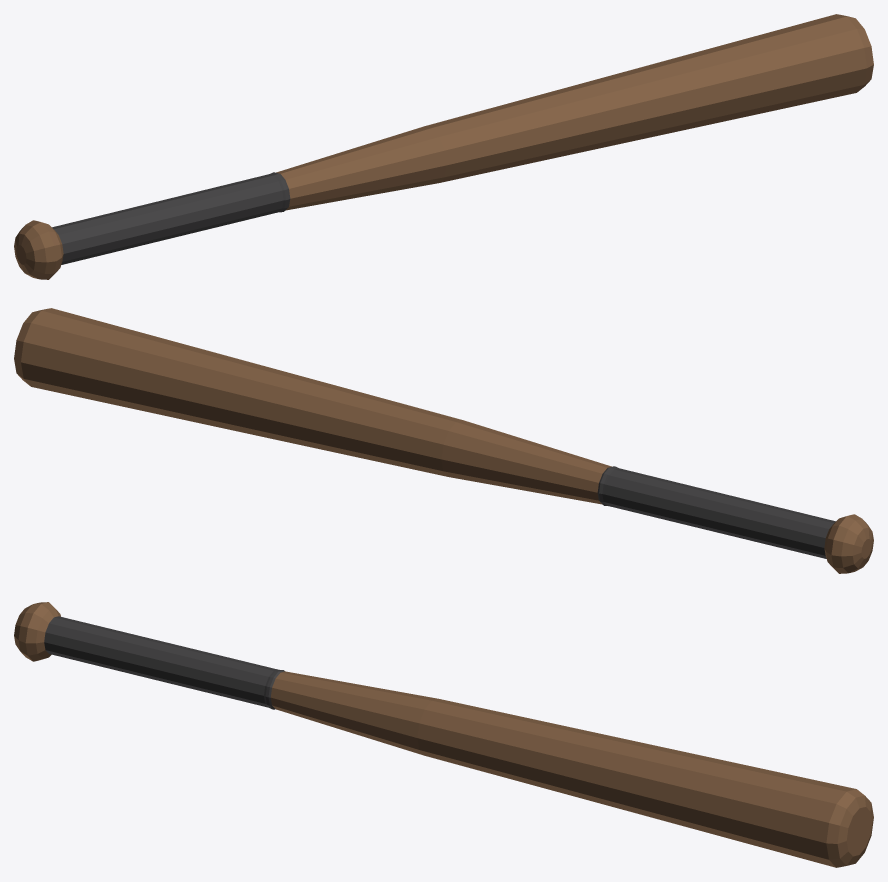
The model's file is SM_BaseballBat_01.glb.
The picture shows the model from 3 angles, top to bottom: view 1: azimuth 30°, elevation 25°; view 2: azimuth 150°, elevation 25°; view 3: azimuth 330°, elevation 25°; orthographic projection.
Visible parts, largest first — view 1: SM_BaseballBat_01; view 2: SM_BaseballBat_01; view 3: SM_BaseballBat_01.
Boxes of the visible parts, x1,y1,x2,y2 form: SM_BaseballBat_01: (14, 14, 873, 279); SM_BaseballBat_01: (14, 308, 873, 573); SM_BaseballBat_01: (14, 602, 873, 867).
Bounding box in the file's own units: 1.24 × 0.1045 × 0.1045.
Materials: 1 (1 with a texture image).
